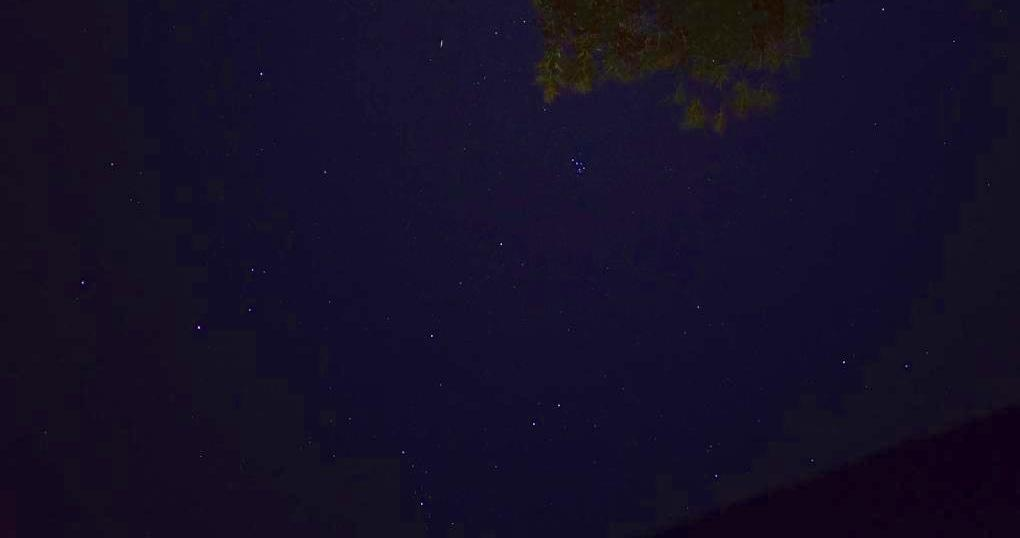meteorite: (429, 34, 453, 52)
